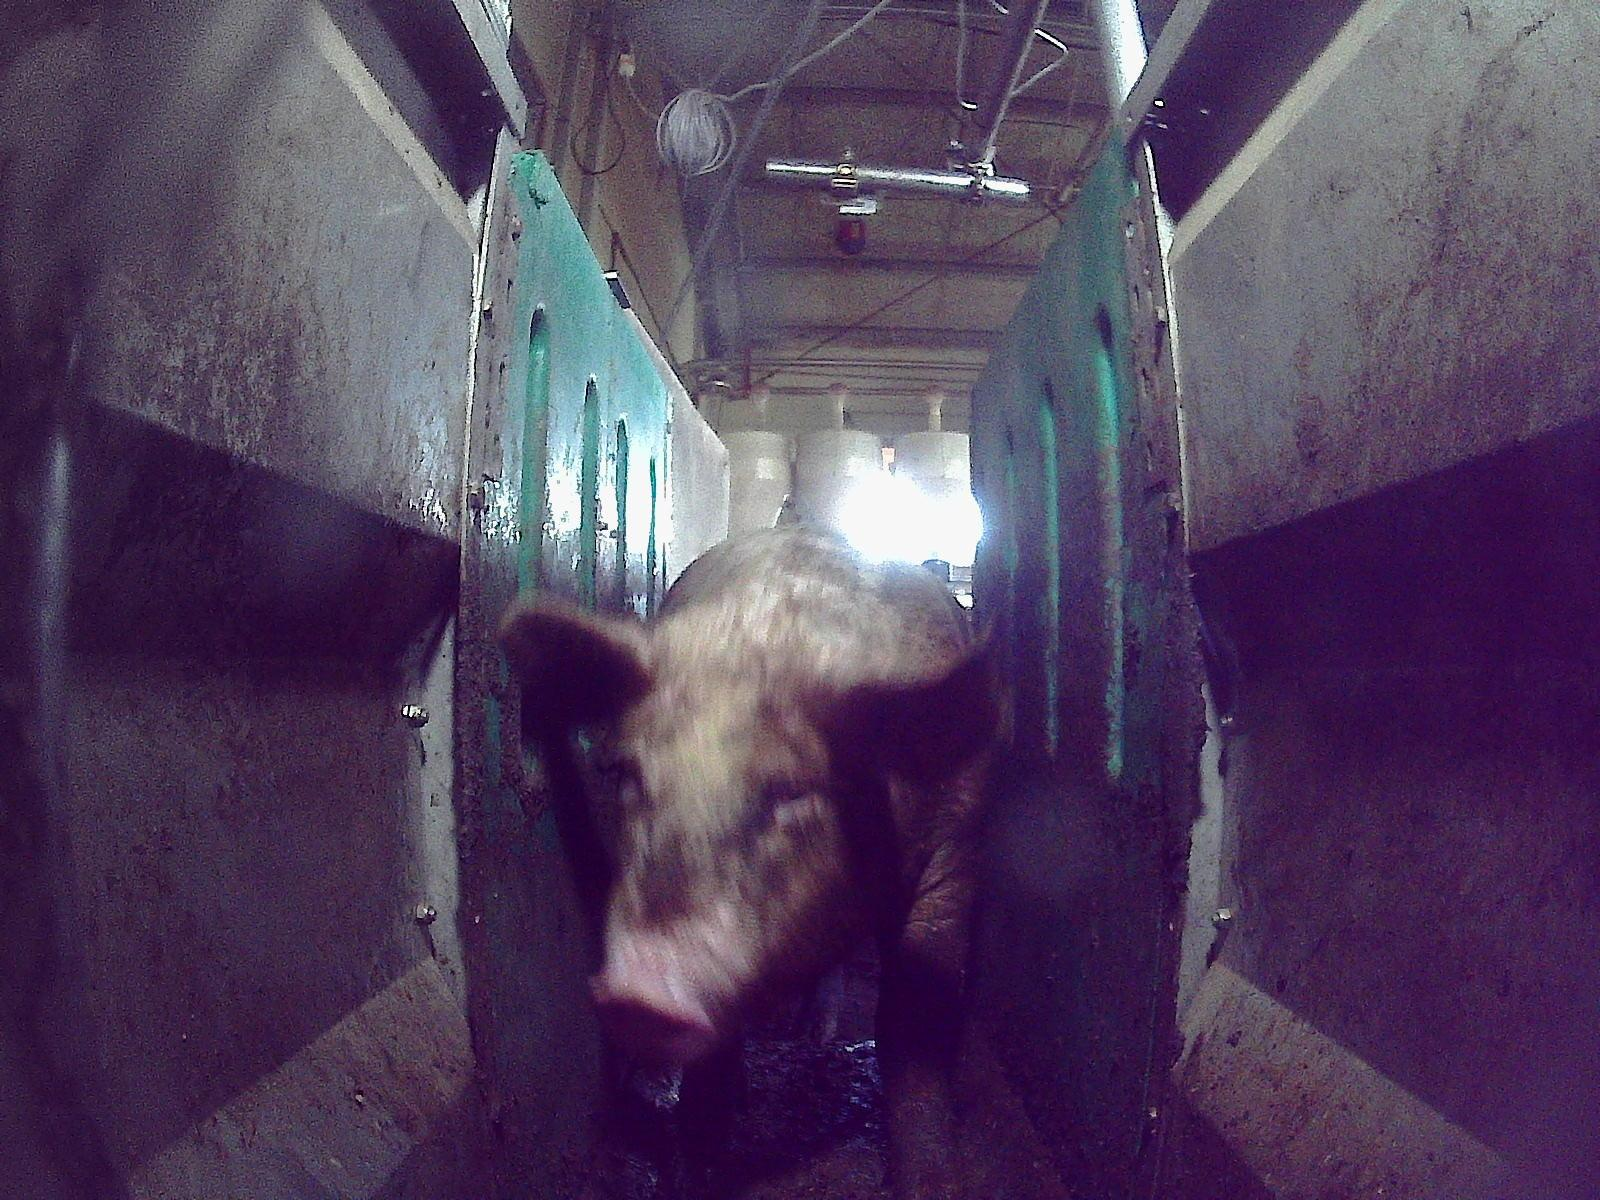Face: (592, 654, 883, 1066)
